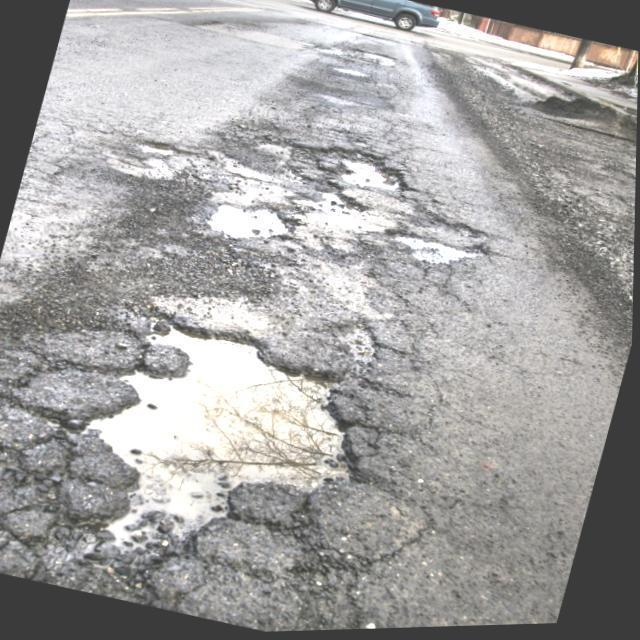Pothole: (78, 320, 359, 560), (204, 136, 412, 243), (389, 218, 493, 270)
